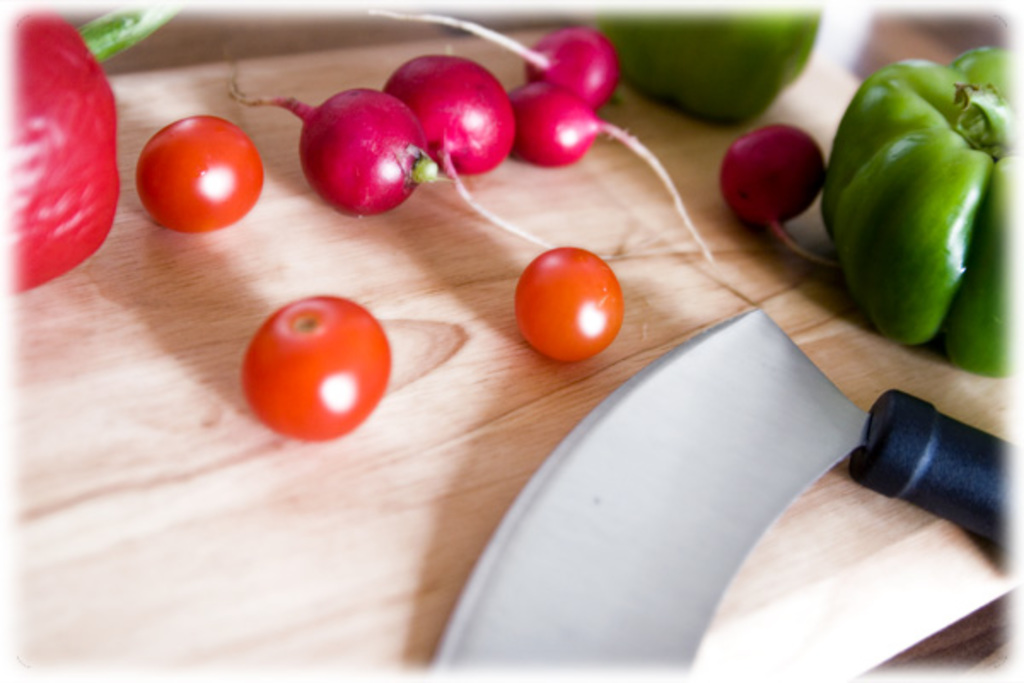Tomato: (238, 298, 389, 438), (508, 230, 629, 363), (133, 110, 266, 227)
